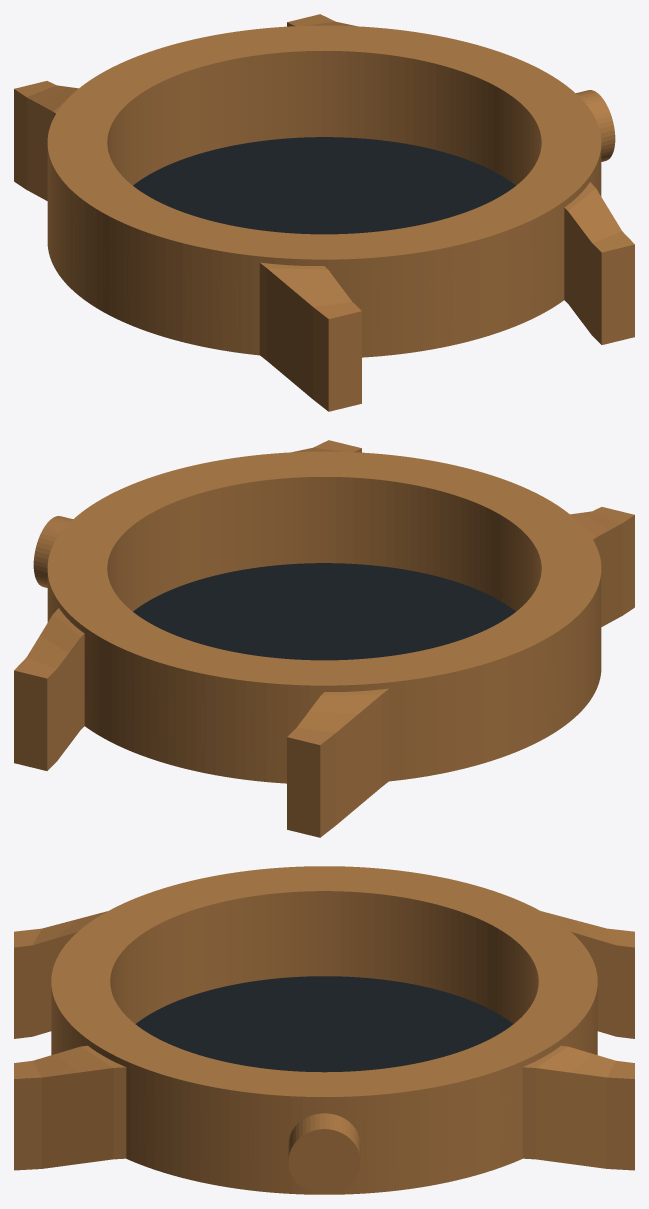
The model's file is case-tandorio-bronze-diver-44.glb.
The picture shows the model from 3 angles, top to bottom: view 1: azimuth 30°, elevation 25°; view 2: azimuth 150°, elevation 25°; view 3: azimuth 270°, elevation 25°; orthographic projection.
Parts seen in each view (by area): view 1: DD_CASE_MIDCASE, DD_CASE_FLOOR, DD_CASE_LUG_-1_-1, DD_CASE_LUG_-1_1, DD_CASE_LUG_1_-1, DD_CASE_TURTLE_SHOULDER, DD_CASE_CROWN_PREVIEW; view 2: DD_CASE_MIDCASE, DD_CASE_FLOOR, DD_CASE_LUG_1_-1, DD_CASE_LUG_1_1, DD_CASE_LUG_-1_-1, DD_CASE_TURTLE_SHOULDER, DD_CASE_CROWN_PREVIEW; view 3: DD_CASE_MIDCASE, DD_CASE_FLOOR, DD_CASE_LUG_1_1, DD_CASE_LUG_-1_1, DD_CASE_LUG_1_-1, DD_CASE_LUG_-1_-1, DD_CASE_CROWN_PREVIEW, DD_CASE_TURTLE_SHOULDER.
Boxes of the visible parts, left/top/right/bottom form: DD_CASE_MIDCASE: left=47, top=25, right=601, bottom=357; DD_CASE_FLOOR: left=133, top=137, right=515, bottom=234; DD_CASE_LUG_-1_-1: left=259, top=262, right=361, bottom=411; DD_CASE_LUG_-1_1: left=564, top=182, right=634, bottom=344; DD_CASE_LUG_1_-1: left=14, top=81, right=78, bottom=200; DD_CASE_TURTLE_SHOULDER: left=48, top=180, right=599, bottom=331; DD_CASE_CROWN_PREVIEW: left=576, top=90, right=615, bottom=161; DD_CASE_MIDCASE: left=47, top=451, right=601, bottom=783; DD_CASE_FLOOR: left=133, top=563, right=515, bottom=660; DD_CASE_LUG_1_-1: left=287, top=688, right=389, bottom=837; DD_CASE_LUG_1_1: left=14, top=608, right=84, bottom=770; DD_CASE_LUG_-1_-1: left=570, top=507, right=634, bottom=626; DD_CASE_TURTLE_SHOULDER: left=49, top=606, right=600, bottom=757; DD_CASE_CROWN_PREVIEW: left=33, top=516, right=72, bottom=587; DD_CASE_MIDCASE: left=51, top=866, right=597, bottom=1194; DD_CASE_FLOOR: left=135, top=976, right=513, bottom=1072; DD_CASE_LUG_1_1: left=522, top=1045, right=634, bottom=1170; DD_CASE_LUG_-1_1: left=14, top=1045, right=126, bottom=1170; DD_CASE_LUG_1_-1: left=541, top=911, right=634, bottom=1038; DD_CASE_LUG_-1_-1: left=14, top=911, right=107, bottom=1038; DD_CASE_CROWN_PREVIEW: left=288, top=1113, right=360, bottom=1194; DD_CASE_TURTLE_SHOULDER: left=51, top=1018, right=597, bottom=1169.
Size of the model in its own units: 47 by 10.23 by 50.
